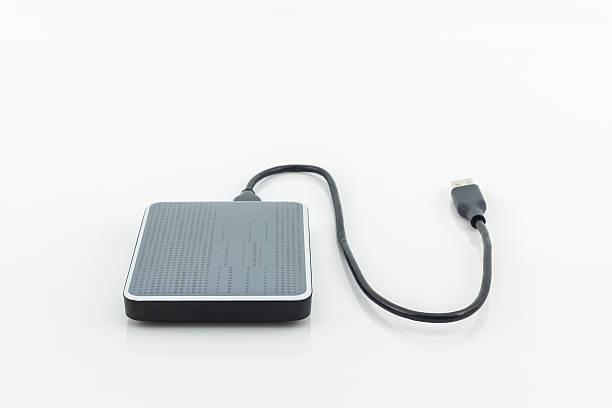HDD: (122, 201, 315, 326)
